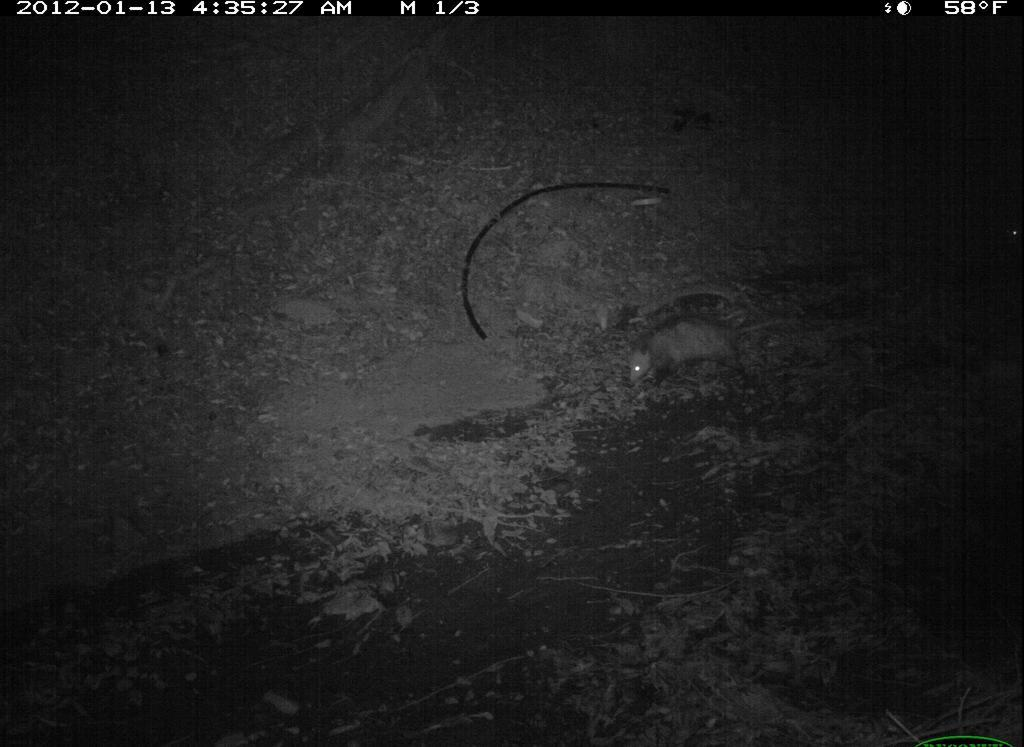opossum: (616, 301, 806, 393)
